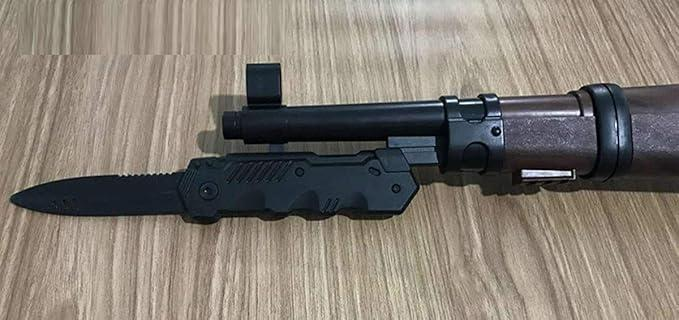Knife: (9, 150, 420, 220)
